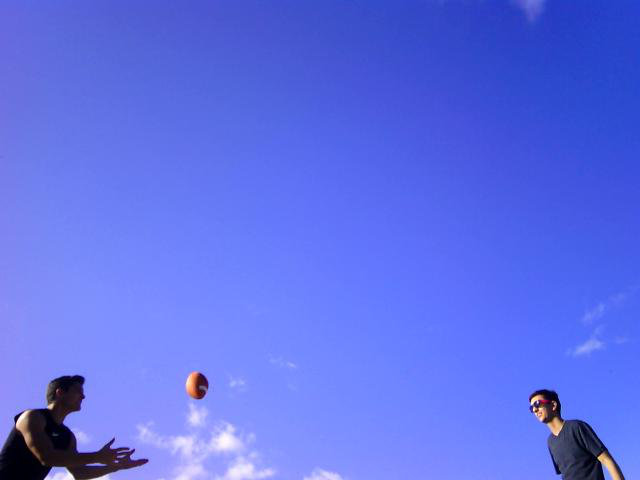football: (182, 370, 210, 403)
